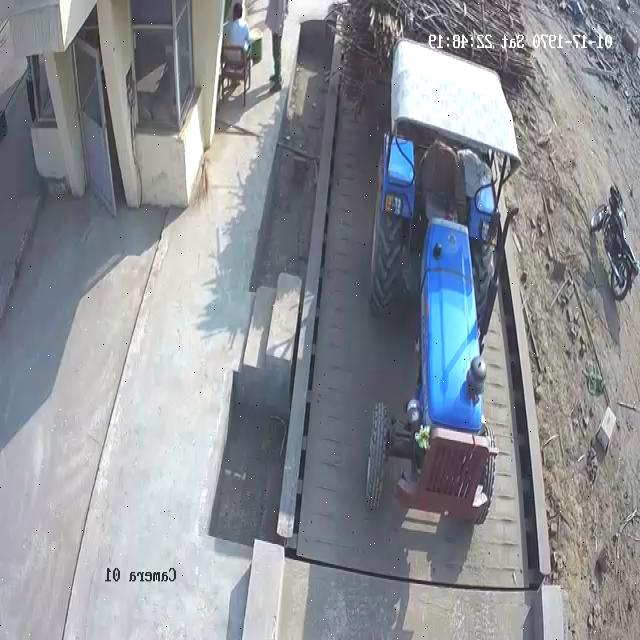Tratores - v5 YOLO V8L 2024-11-13: (361, 68, 506, 525)
